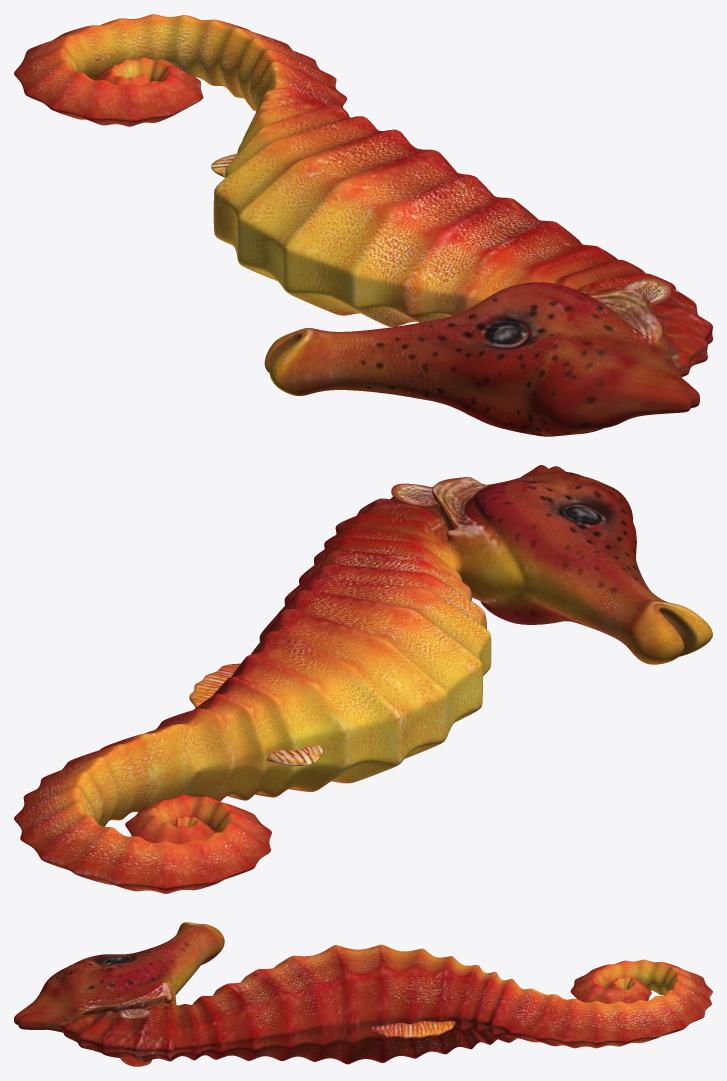
The model's file is seahorse.glb.
3 views of the same model, one above another, from view 1: azimuth 30°, elevation 25°; view 2: azimuth 150°, elevation 25°; view 3: azimuth 270°, elevation 25° (orthographic). The views are drawn at different scales.
Visible parts, largest first — view 1: seahorse; view 2: seahorse; view 3: seahorse.
Boxes of the visible parts, x1,y1,x2,y2 form: seahorse: (14, 14, 712, 436); seahorse: (14, 465, 712, 893); seahorse: (14, 922, 712, 1066).
Size of the model in its own units: 6.01 by 2.11 by 14.33.
Materials: 1 (1 with a texture image).
